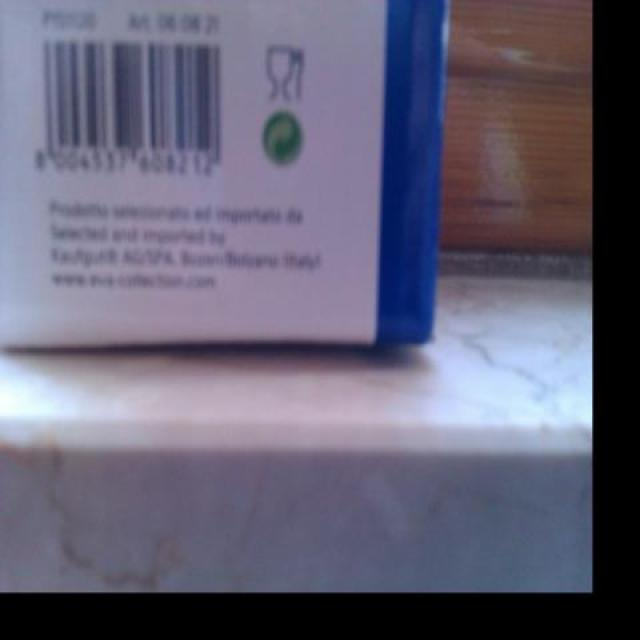Barcode: (17, 33, 245, 194)
